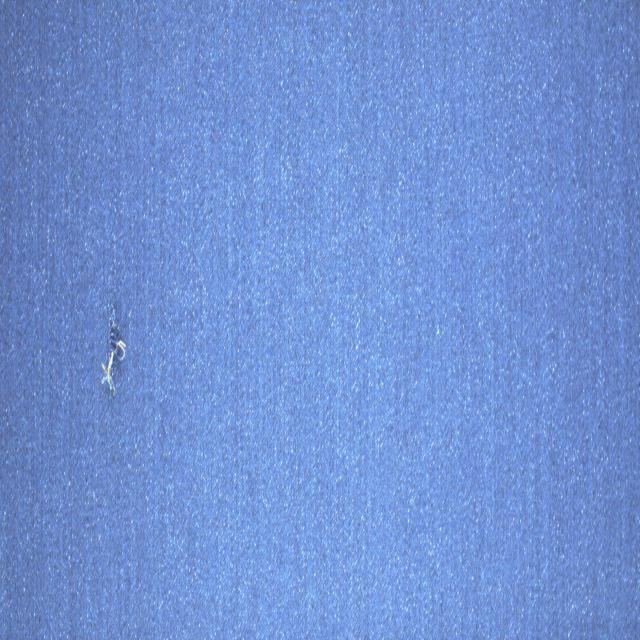Hole: (100, 305, 127, 396)
